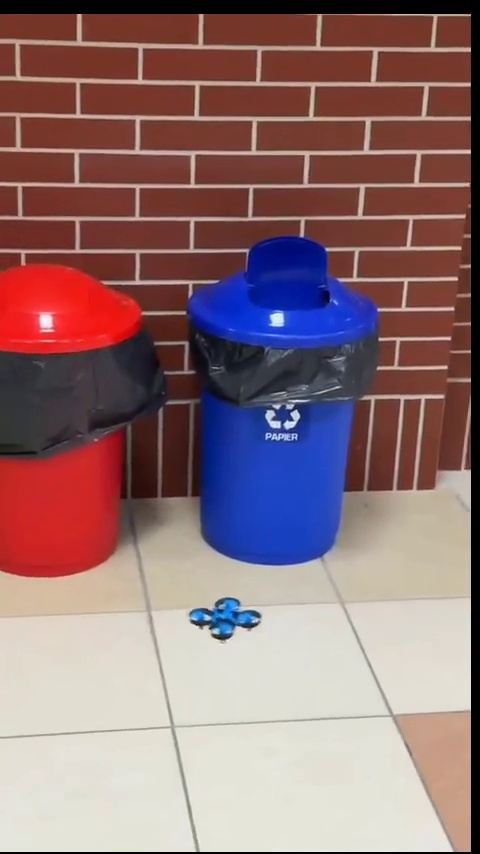drone: (192, 601, 262, 643)
